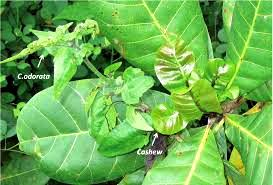Helopeltis-Withered Sprout: (18, 29, 59, 58), (144, 133, 168, 171), (68, 17, 100, 41), (106, 100, 123, 130), (222, 93, 246, 113), (84, 86, 99, 117), (77, 43, 101, 61), (112, 75, 129, 96), (213, 62, 228, 84)
